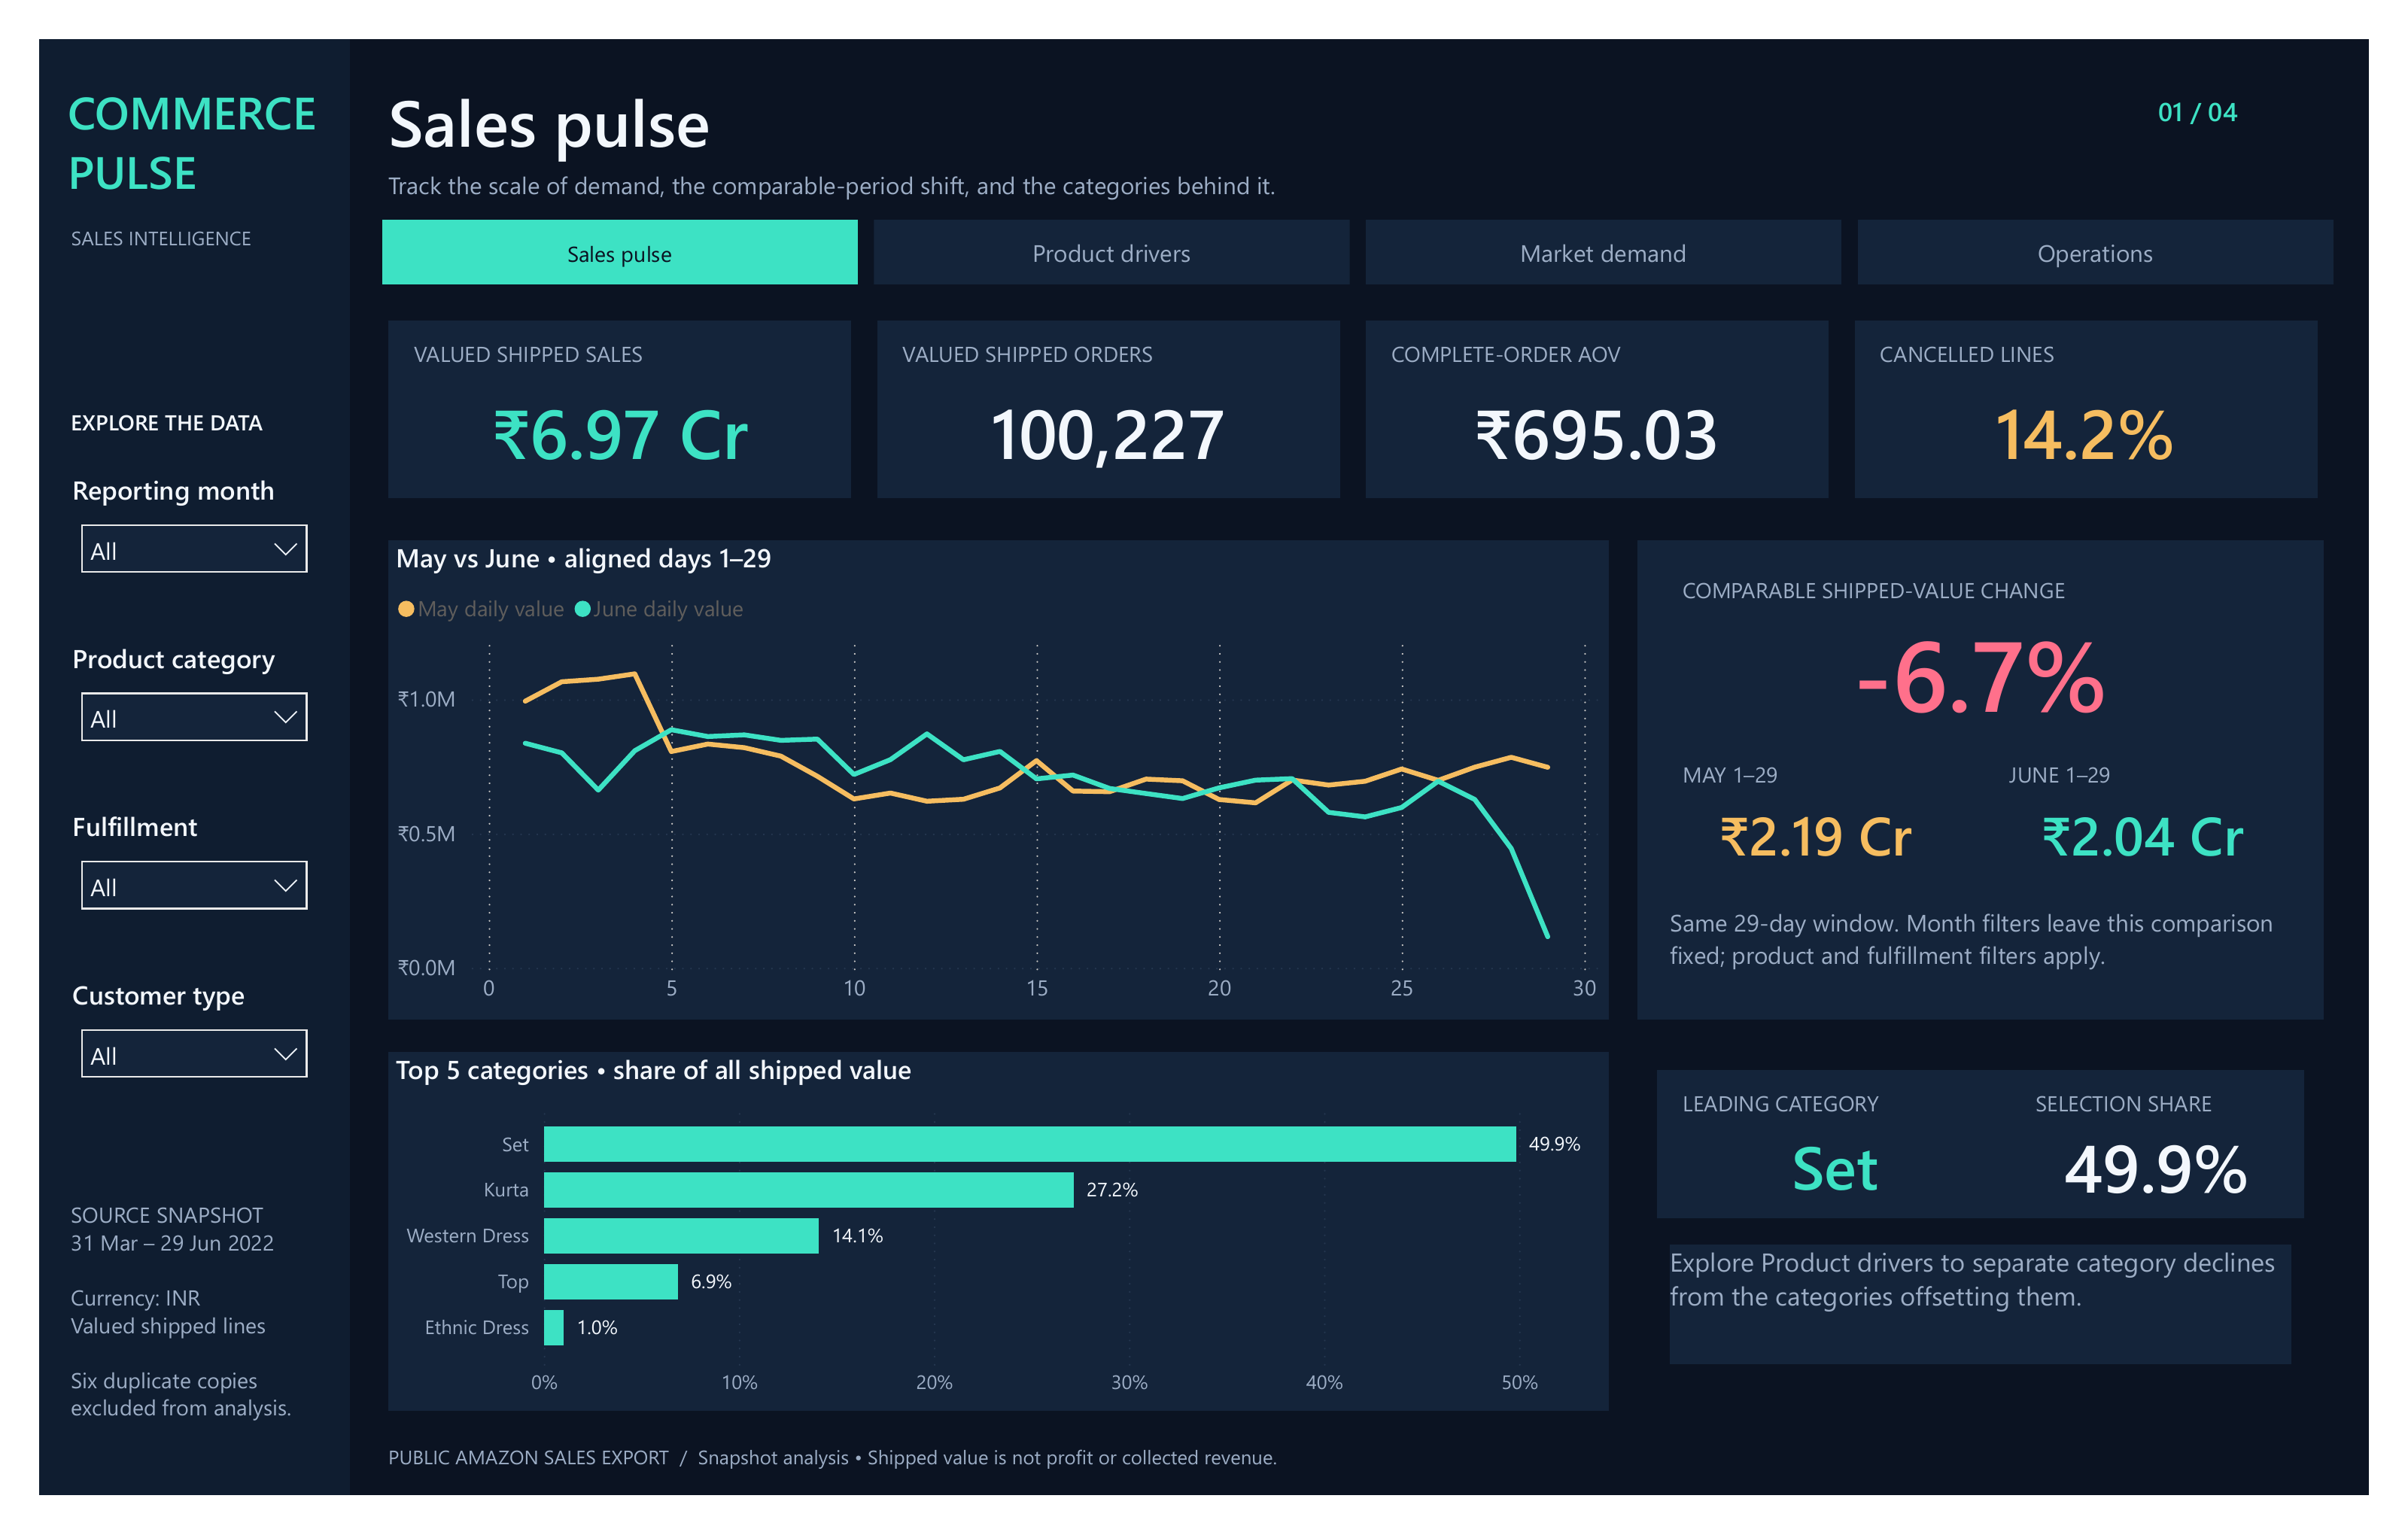

What the dashboard file says about the page in this screenshot:
{"tool":"powerbi","page":{"name":"Sales","canvas":[1440,900],"ordinal":0},"visuals":[{"type":"textbox","box":[0,0,192,900],"z":0},{"type":"textbox","box":[216,174,286,110],"z":1},{"type":"textbox","box":[518,174,286,110],"z":1},{"type":"textbox","box":[820,174,286,110],"z":1},{"type":"textbox","box":[1122,174,286,110],"z":1},{"type":"textbox","box":[988,310,424,296],"z":1},{"type":"textbox","box":[1000,320,400,112],"z":1},{"type":"textbox","box":[1000,434,196,90],"z":1},{"type":"textbox","box":[1202,434,196,90],"z":1},{"type":"textbox","box":[1000,637,220,92],"z":1},{"type":"textbox","box":[1218,637,182,92],"z":1},{"type":"pageNavigator","box":[212,112,1208,40],"z":10},{"type":"card","fields":{"Values":["Sales.Sales Value (crore)"]},"box":[228,209,262,67],"z":10},{"type":"card","fields":{"Values":["Sales.Shipped Orders Display"]},"box":[530,209,262,67],"z":10},{"type":"card","fields":{"Values":["Sales.Complete Order AOV"]},"box":[832,209,262,67],"z":10},{"type":"card","fields":{"Values":["Sales.Cancelled Line Rate"]},"box":[1134,209,262,67],"z":10},{"type":"slicer","title":"Reporting month","fields":{"Values":["Date.month_label"]},"box":[16,268,160,88],"z":10},{"type":"lineChart","title":"May vs June • aligned days 1–29","fields":{"Category":["Date.day_of_month"],"Y":["Sales.May daily value","Sales.June daily value"]},"box":[216,310,754,296],"z":10},{"type":"card","fields":{"Values":["Sales.Comparable Value Change Rate"]},"box":[1012,355,376,69],"z":10},{"type":"slicer","title":"Product category","fields":{"Values":["Product.category"]},"box":[16,372,160,88],"z":10},{"type":"card","fields":{"Values":["Sales.May Value (crore)"]},"box":[1012,469,172,47],"z":10},{"type":"card","fields":{"Values":["Sales.June Value (crore)"]},"box":[1214,469,172,47],"z":10},{"type":"slicer","title":"Fulfillment","fields":{"Values":["Sales.fulfillment"]},"box":[16,476,160,88],"z":10},{"type":"slicer","title":"Customer type","fields":{"Values":["Sales.Customer Segment"]},"box":[16,580,160,88],"z":10},{"type":"clusteredBarChart","title":"Top 5 categories • share of all shipped value","fields":{"Category":["Product.category"],"Y":["Sales.Top 5 Category Share"]},"box":[216,626,754,222],"z":10},{"type":"card","fields":{"Values":["Sales.Leading Category"]},"box":[1012,672,196,49],"z":10},{"type":"card","fields":{"Values":["Sales.Leading Category Share"]},"box":[1230,672,158,49],"z":10},{"type":"textbox","box":[15.3,9.7,160,164.2],"z":20},{"type":"textbox","box":[216,24,760,54],"z":20},{"type":"textbox","box":[1310,34,104,34],"z":20},{"type":"textbox","box":[216,80,960,26],"z":20},{"type":"textbox","box":[15.3,180.9,152,28],"z":20},{"type":"textbox","box":[232,186,254,23],"z":20},{"type":"textbox","box":[534,186,254,23],"z":20},{"type":"textbox","box":[836,186,254,23],"z":20},{"type":"textbox","box":[1138,186,254,23],"z":20},{"type":"textbox","box":[20,228,152,28],"z":20},{"type":"textbox","box":[1016,332,368,23],"z":20},{"type":"textbox","box":[1016,446,164,23],"z":20},{"type":"textbox","box":[1218,446,164,23],"z":20},{"type":"textbox","box":[1008,536,384,62],"z":20},{"type":"textbox","box":[1016,649,188,23],"z":20},{"type":"textbox","box":[1234,649,150,23],"z":20},{"type":"textbox","box":[19.5,718,153.1,130.8],"z":20},{"type":"textbox","box":[1008,745,384,74],"z":20},{"type":"textbox","box":[216,867,1198,26],"z":20}]}

Visuals, with their boxes in screenshot pixels (x1, y1, x2, y2), scaled from the page's 1440x900 canvas onto the 2408x1535 screenshot:
textbox: {"x1": 0, "y1": 0, "x2": 321, "y2": 1534}
textbox: {"x1": 361, "y1": 296, "x2": 840, "y2": 485}
textbox: {"x1": 866, "y1": 296, "x2": 1345, "y2": 485}
textbox: {"x1": 1371, "y1": 296, "x2": 1850, "y2": 485}
textbox: {"x1": 1876, "y1": 296, "x2": 2355, "y2": 485}
textbox: {"x1": 1652, "y1": 529, "x2": 2361, "y2": 1034}
textbox: {"x1": 1672, "y1": 546, "x2": 2341, "y2": 737}
textbox: {"x1": 1672, "y1": 740, "x2": 2000, "y2": 894}
textbox: {"x1": 2010, "y1": 740, "x2": 2338, "y2": 894}
textbox: {"x1": 1672, "y1": 1087, "x2": 2040, "y2": 1243}
textbox: {"x1": 2037, "y1": 1087, "x2": 2341, "y2": 1243}
pageNavigator: {"x1": 354, "y1": 191, "x2": 2375, "y2": 260}
card - Sales.Sales Value (crore): {"x1": 382, "y1": 357, "x2": 819, "y2": 471}
card - Sales.Shipped Orders Display: {"x1": 886, "y1": 357, "x2": 1324, "y2": 471}
card - Sales.Complete Order AOV: {"x1": 1391, "y1": 357, "x2": 1829, "y2": 471}
card - Sales.Cancelled Line Rate: {"x1": 1896, "y1": 357, "x2": 2334, "y2": 471}
"Reporting month" slicer: {"x1": 27, "y1": 457, "x2": 294, "y2": 607}
"May vs June • aligned days 1–29" lineChart: {"x1": 361, "y1": 529, "x2": 1622, "y2": 1034}
card - Sales.Comparable Value Change Rate: {"x1": 1692, "y1": 606, "x2": 2321, "y2": 723}
"Product category" slicer: {"x1": 27, "y1": 634, "x2": 294, "y2": 785}
card - Sales.May Value (crore): {"x1": 1692, "y1": 800, "x2": 1980, "y2": 880}
card - Sales.June Value (crore): {"x1": 2030, "y1": 800, "x2": 2318, "y2": 880}
"Fulfillment" slicer: {"x1": 27, "y1": 812, "x2": 294, "y2": 962}
"Customer type" slicer: {"x1": 27, "y1": 989, "x2": 294, "y2": 1139}
"Top 5 categories • share of all shipped value" clusteredBarChart: {"x1": 361, "y1": 1068, "x2": 1622, "y2": 1446}
card - Sales.Leading Category: {"x1": 1692, "y1": 1146, "x2": 2020, "y2": 1230}
card - Sales.Leading Category Share: {"x1": 2057, "y1": 1146, "x2": 2321, "y2": 1230}
textbox: {"x1": 26, "y1": 17, "x2": 293, "y2": 296}
textbox: {"x1": 361, "y1": 41, "x2": 1632, "y2": 133}
textbox: {"x1": 2191, "y1": 58, "x2": 2364, "y2": 116}
textbox: {"x1": 361, "y1": 136, "x2": 1966, "y2": 181}
textbox: {"x1": 26, "y1": 309, "x2": 280, "y2": 357}
textbox: {"x1": 388, "y1": 318, "x2": 813, "y2": 357}
textbox: {"x1": 893, "y1": 318, "x2": 1318, "y2": 357}
textbox: {"x1": 1398, "y1": 318, "x2": 1823, "y2": 357}
textbox: {"x1": 1903, "y1": 318, "x2": 2327, "y2": 357}
textbox: {"x1": 33, "y1": 389, "x2": 287, "y2": 436}
textbox: {"x1": 1699, "y1": 567, "x2": 2315, "y2": 606}
textbox: {"x1": 1699, "y1": 761, "x2": 1973, "y2": 800}
textbox: {"x1": 2037, "y1": 761, "x2": 2311, "y2": 800}
textbox: {"x1": 1686, "y1": 914, "x2": 2327, "y2": 1020}
textbox: {"x1": 1699, "y1": 1107, "x2": 2014, "y2": 1146}
textbox: {"x1": 2063, "y1": 1107, "x2": 2315, "y2": 1146}
textbox: {"x1": 32, "y1": 1224, "x2": 289, "y2": 1448}
textbox: {"x1": 1686, "y1": 1271, "x2": 2327, "y2": 1397}
textbox: {"x1": 361, "y1": 1479, "x2": 2364, "y2": 1523}
